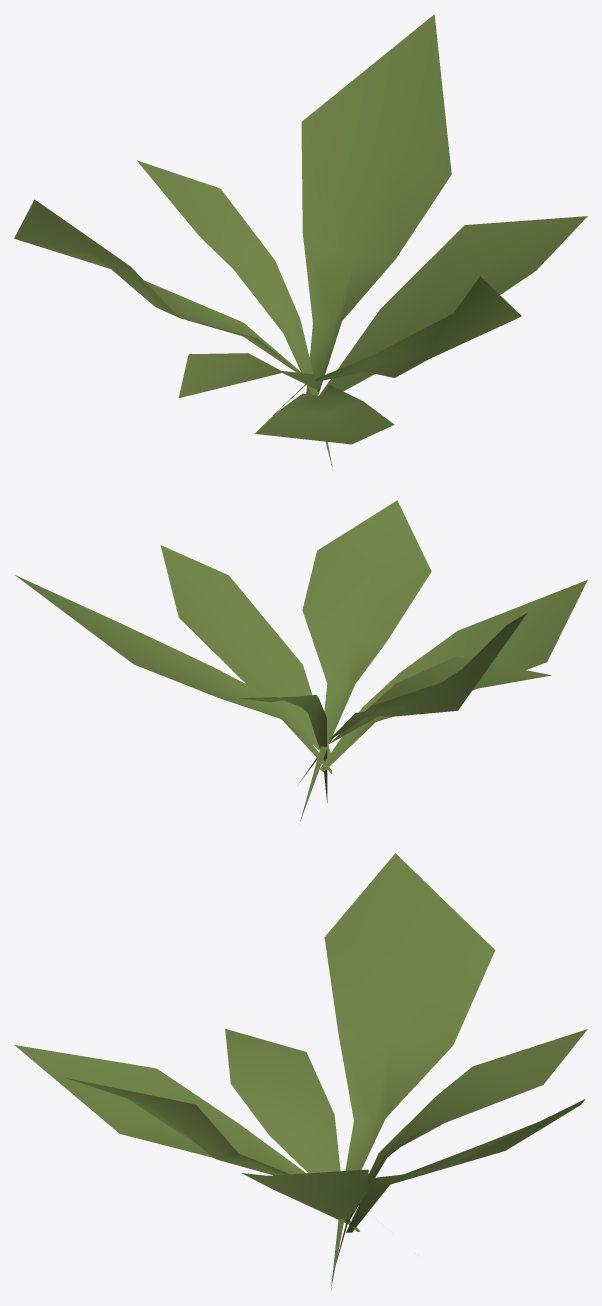
Rendered from Weed5.fbx.
3 renders of one model, top to bottom at view 1: azimuth 30°, elevation 25°; view 2: azimuth 150°, elevation 25°; view 3: azimuth 270°, elevation 25°, orthographic. The views are drawn at different scales.
Visible parts, largest first — view 1: Weed_Dandellion_A_spring-summer.020; view 2: Weed_Dandellion_A_spring-summer.020; view 3: Weed_Dandellion_A_spring-summer.020.
Part boxes in pixels (x1,y1,x2,y2): Weed_Dandellion_A_spring-summer.020: (14, 14, 587, 469); Weed_Dandellion_A_spring-summer.020: (15, 500, 587, 821); Weed_Dandellion_A_spring-summer.020: (14, 853, 587, 1289).
Size of the model in its own units: 77.79 by 46.78 by 78.93.
